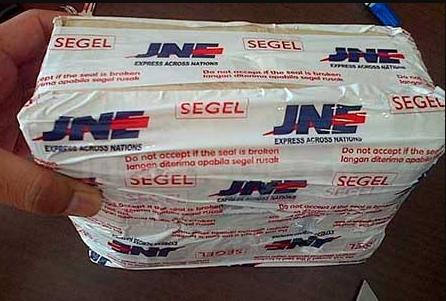undamaged: (11, 9, 444, 270)
